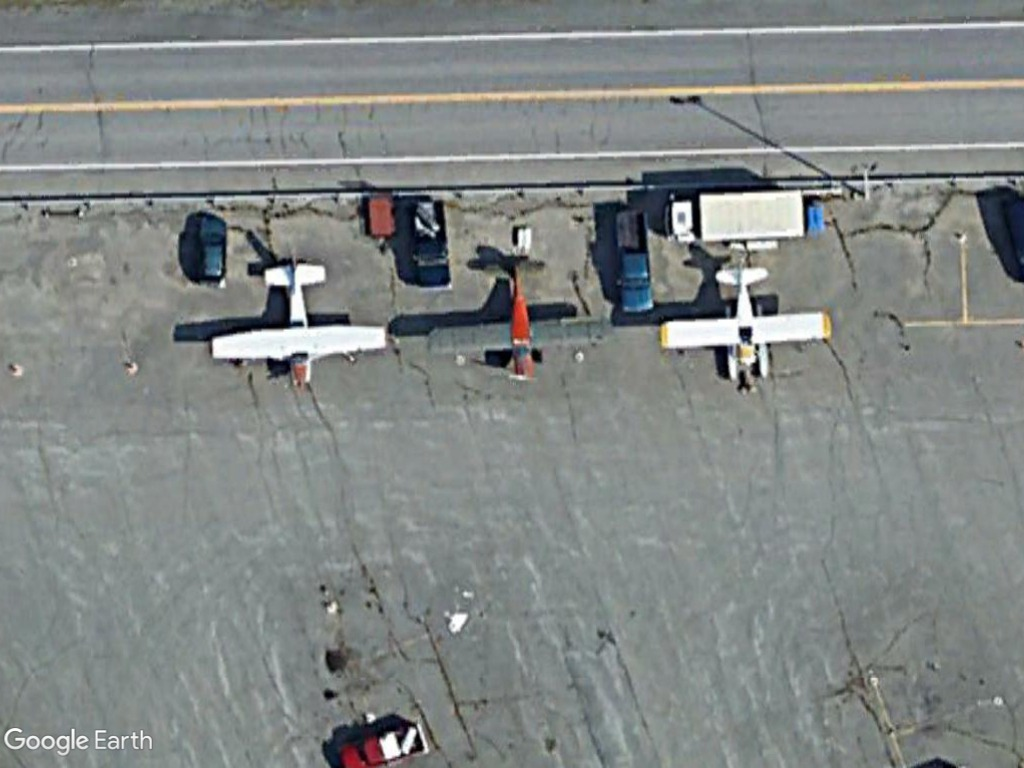car: (194, 209, 229, 295)
other: (611, 203, 660, 318), (408, 191, 454, 295)
trainer: (204, 248, 395, 396), (419, 251, 612, 385), (651, 257, 841, 384)
truck: (654, 185, 806, 250)
